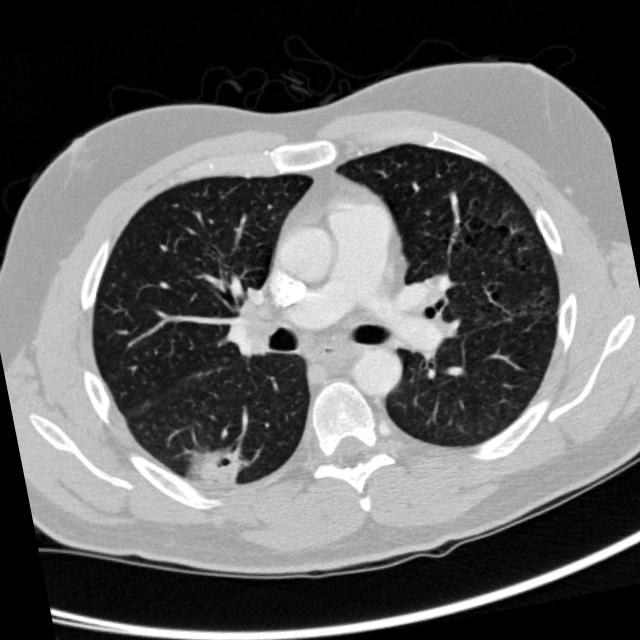nodule: (162, 411, 270, 519)
